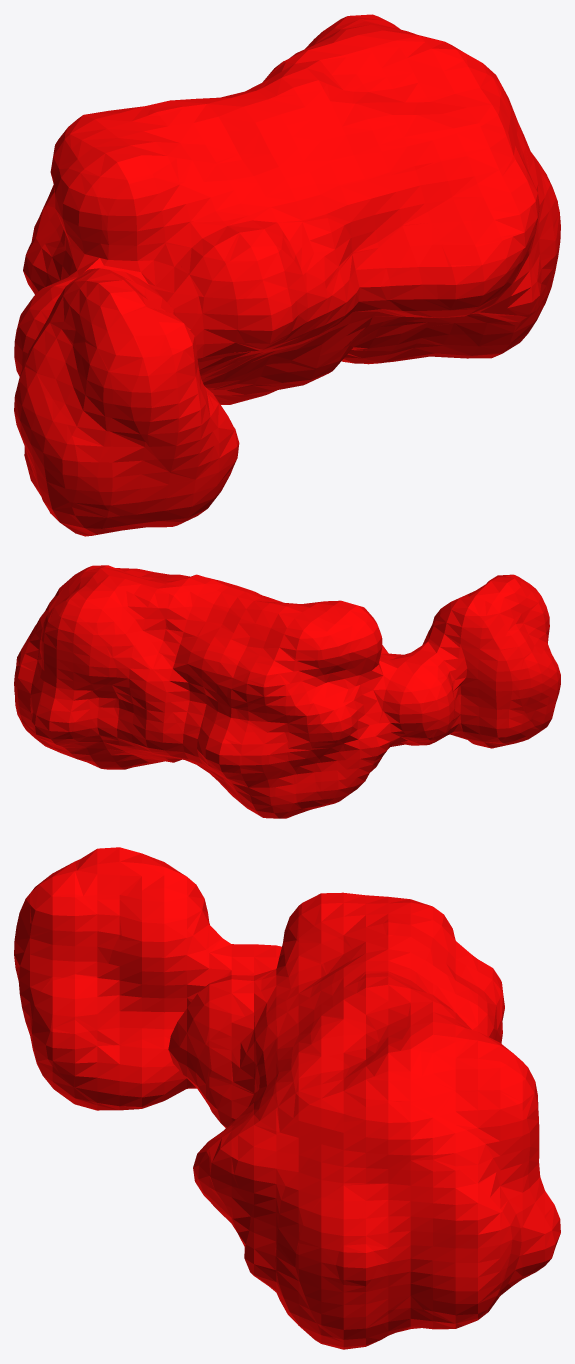
File: galR_coarse.dae
3 views of the same model, one above another, from view 1: azimuth 30°, elevation 25°; view 2: azimuth 150°, elevation 25°; view 3: azimuth 270°, elevation 25° (orthographic). The views are drawn at different scales.
Visible parts, largest first — view 1: galR; view 2: galR; view 3: galR.
Boxes of the visible parts, x1=… form: galR: x1=14, y1=14, x2=560, y2=536; galR: x1=14, y1=565, x2=560, y2=818; galR: x1=14, y1=847, x2=560, y2=1349.
Bounding box in the file's own units: 83.09 × 38.59 × 63.91.
